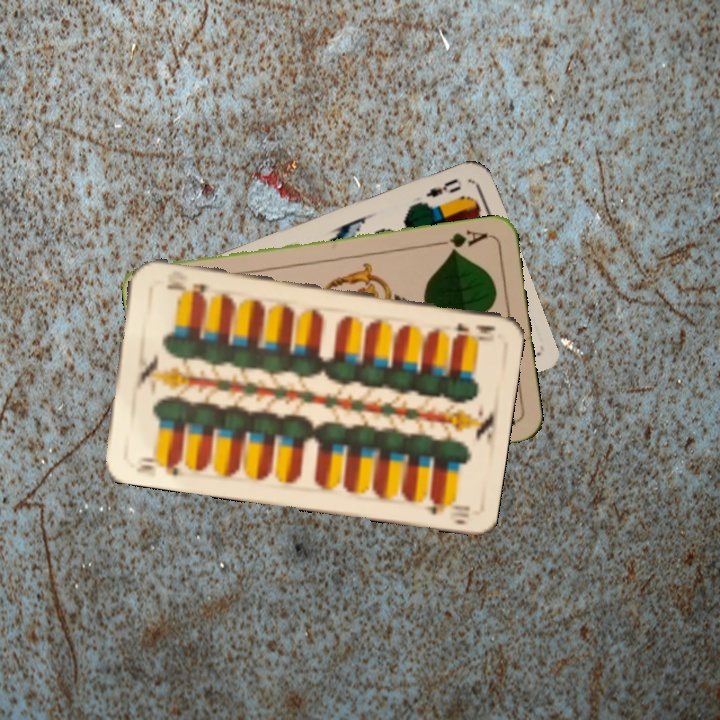E10: (132, 453, 184, 478), (449, 319, 498, 341)
EO: (415, 174, 464, 209)
GA: (433, 225, 490, 256)
